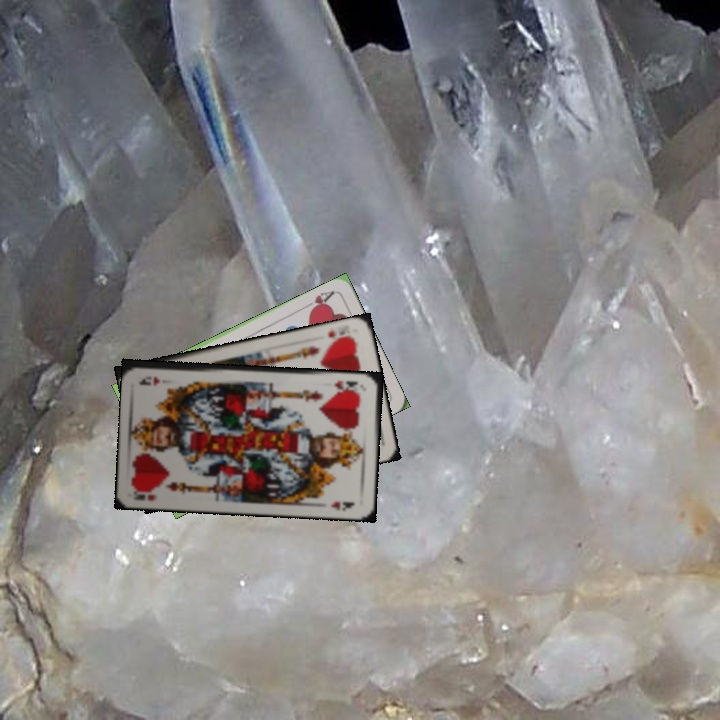HA: (300, 286, 337, 315)
HK: (324, 325, 356, 345), (330, 376, 363, 395), (130, 485, 159, 503)
